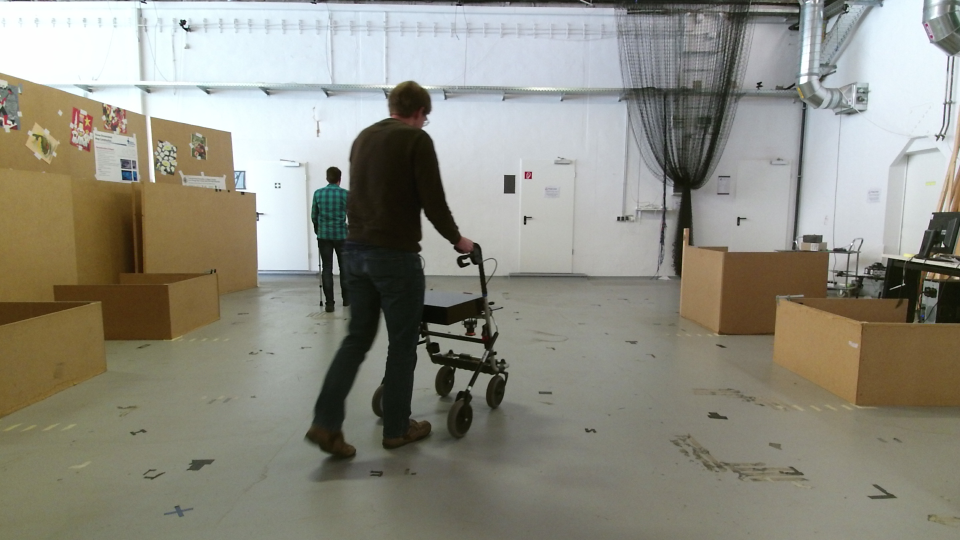crutches: (305, 158, 362, 314)
